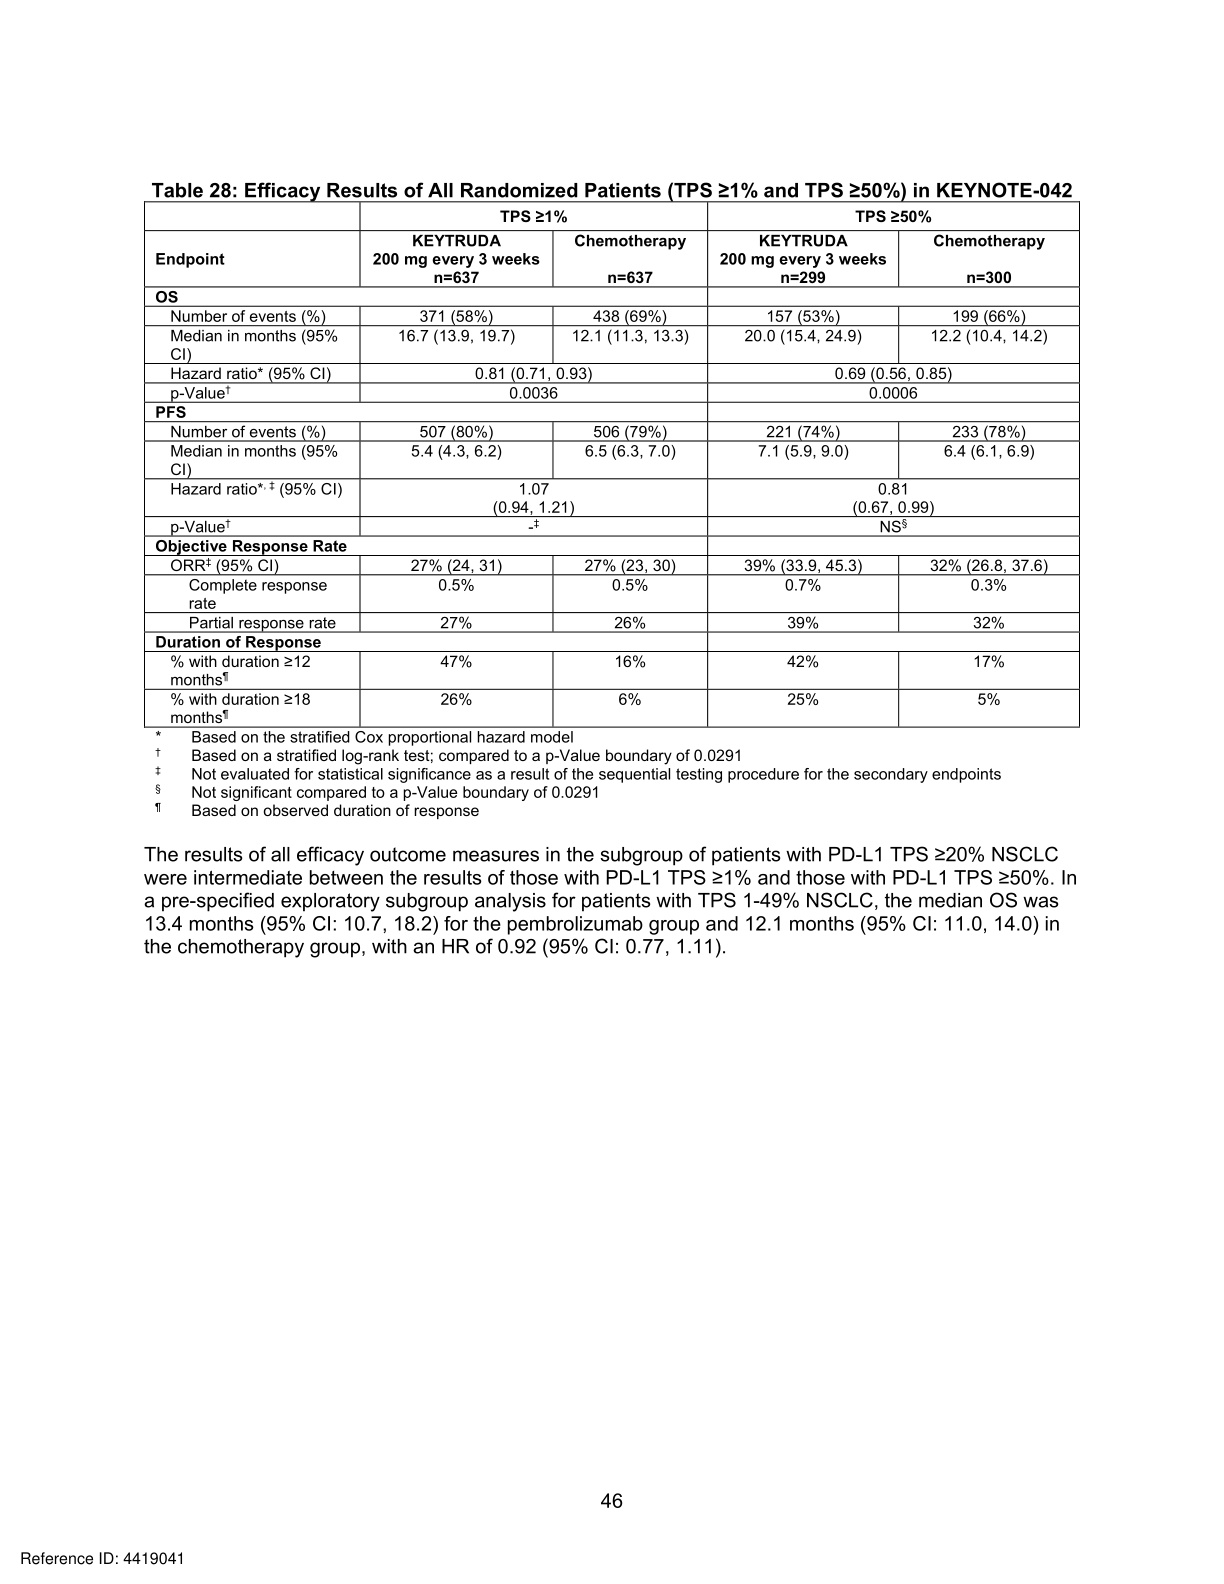merged_cells: (143, 201, 1081, 729)
